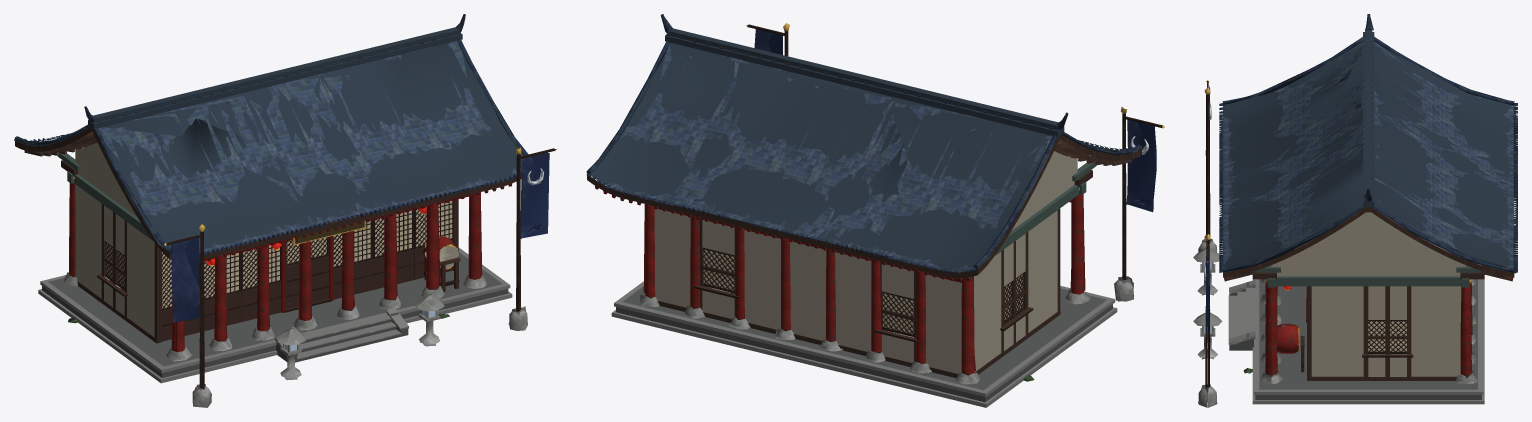
Rendered from prop_council_hall.gltf.
3 renders of one model, left to right at view 1: azimuth 30°, elevation 25°; view 2: azimuth 150°, elevation 25°; view 3: azimuth 270°, elevation 25°, orthographic. The views are drawn at different scales.
Parts seen in each view (by area): view 1: Far, Near; view 2: Far, Near; view 3: Far, Near.
Boxes of the visible parts, x1,y1,x2,y2 form: Far: (15, 18, 549, 393); Near: (14, 14, 556, 407); Far: (587, 18, 1154, 407); Near: (586, 14, 1164, 384); Far: (1193, 17, 1514, 404); Near: (1194, 14, 1517, 407).
Size of the model in its own units: 15.89 by 9.39 by 12.04.
Materials: 23 (17 with a texture image).
